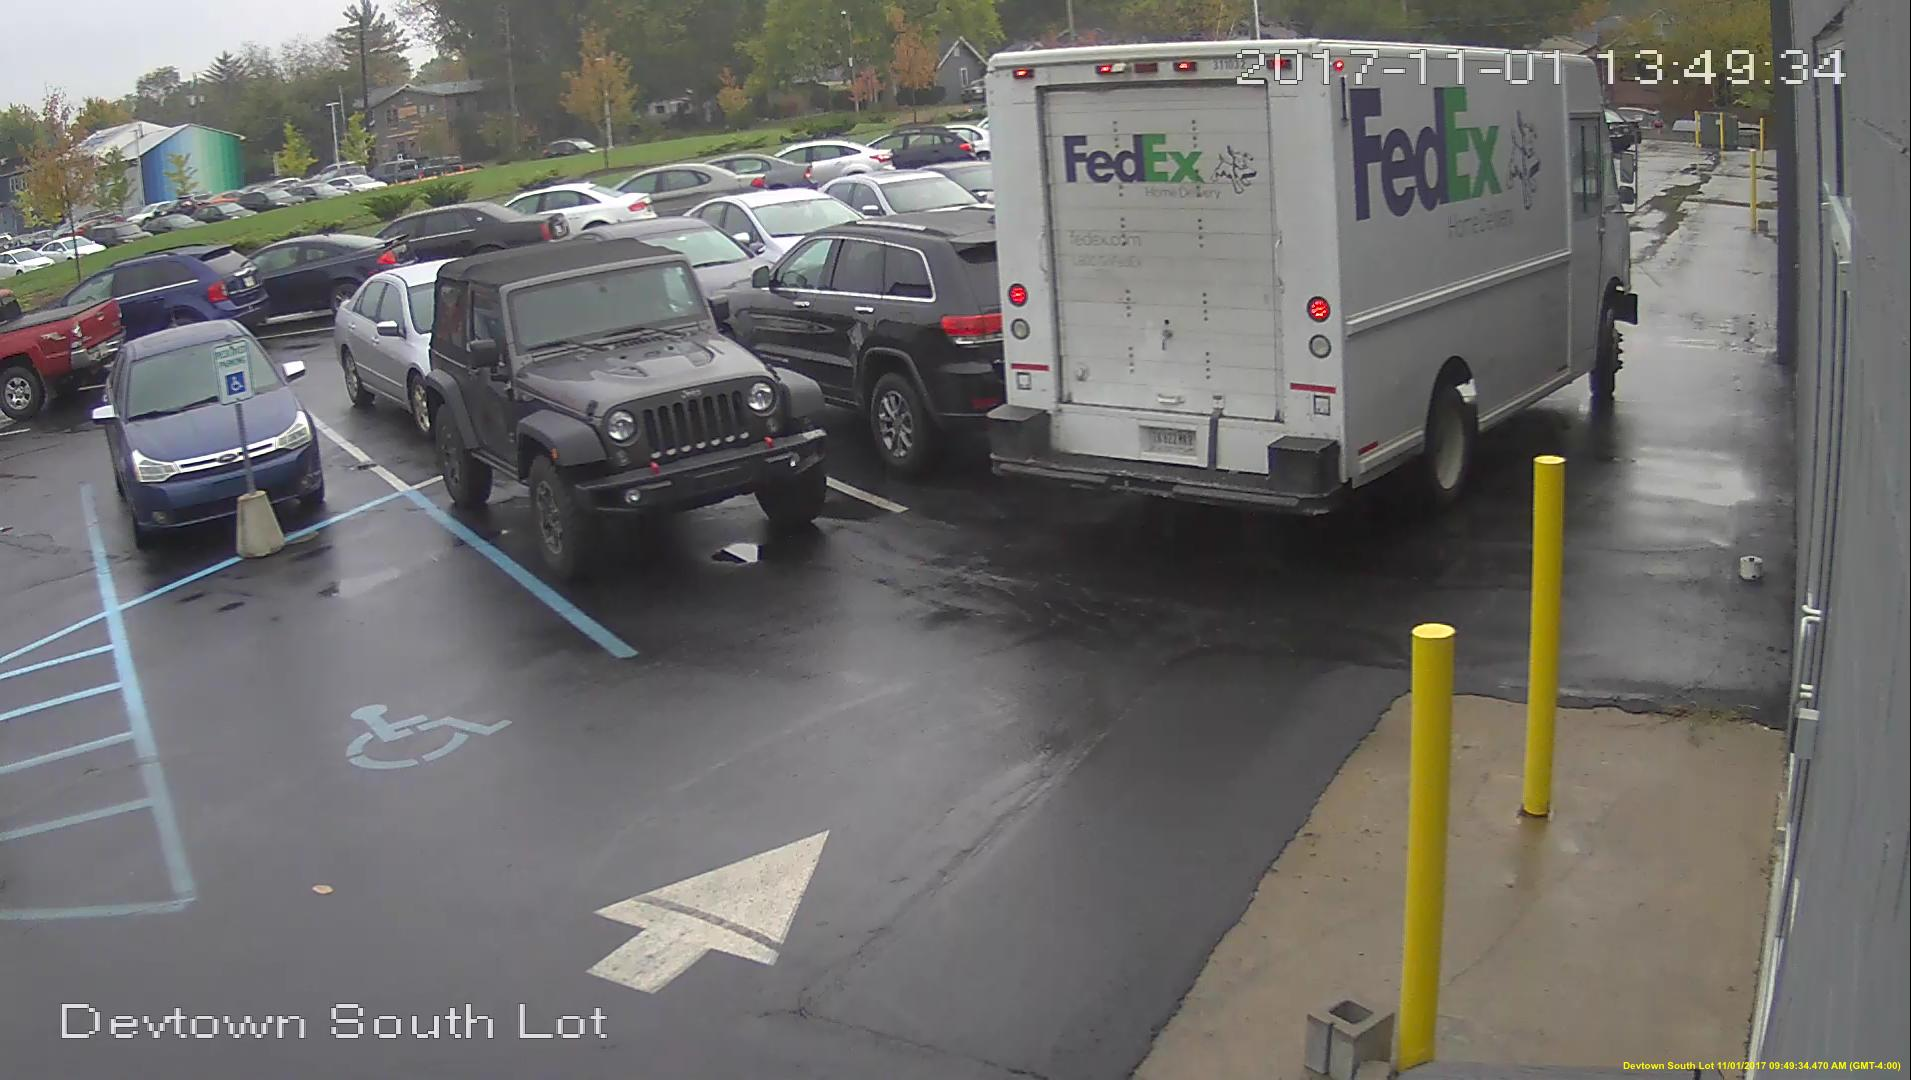fedex_truck: (979, 45, 1639, 520)
